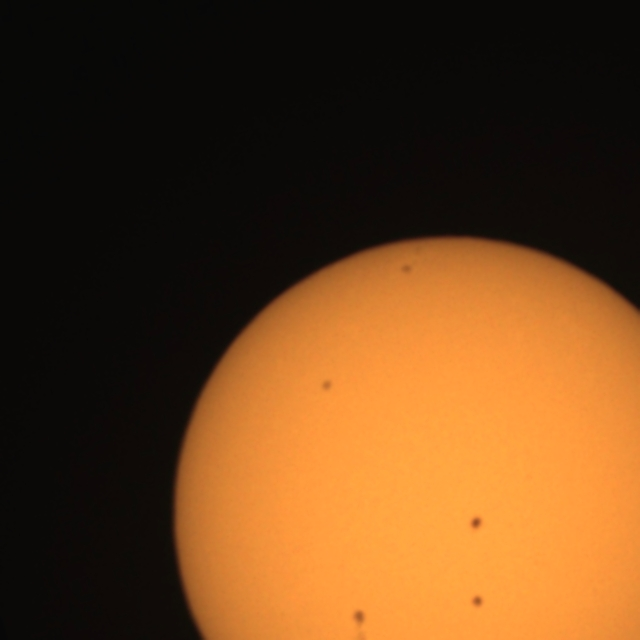sunspot: (349, 606, 370, 630), (468, 592, 487, 612), (467, 514, 486, 534), (319, 376, 335, 396), (399, 262, 414, 277)
